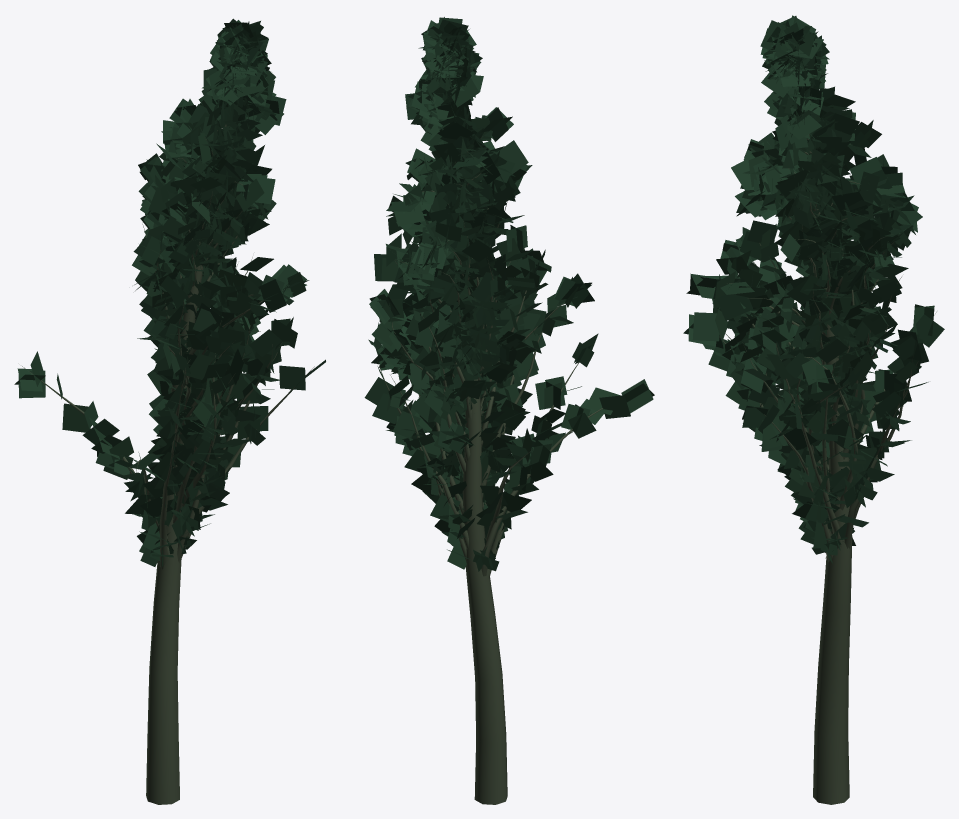
The model's file is meadow-spruce-a.glb.
3 views of the same model, side by side, from view 1: azimuth 30°, elevation 25°; view 2: azimuth 150°, elevation 25°; view 3: azimuth 270°, elevation 25° (orthographic). The views are drawn at different scales.
Visible parts, largest first — view 1: leaves, bark; view 2: leaves, bark; view 3: leaves, bark.
Part boxes in pixels (x1,y1,x2,y2): leaves: (14,18,325,566); bark: (22,124,314,804); leaves: (364,17,654,571); bark: (377,136,603,804); leaves: (683,15,944,563); bark: (719,134,936,804).
Size of the model in its own units: 16.95 by 51.2 by 14.92.
